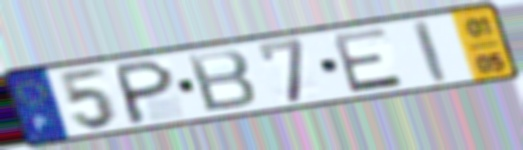5: (53, 64, 123, 132)
7: (254, 35, 309, 106)
B: (183, 47, 260, 115)
E: (328, 25, 407, 96)
I: (409, 18, 452, 85)
P: (114, 57, 177, 127)
